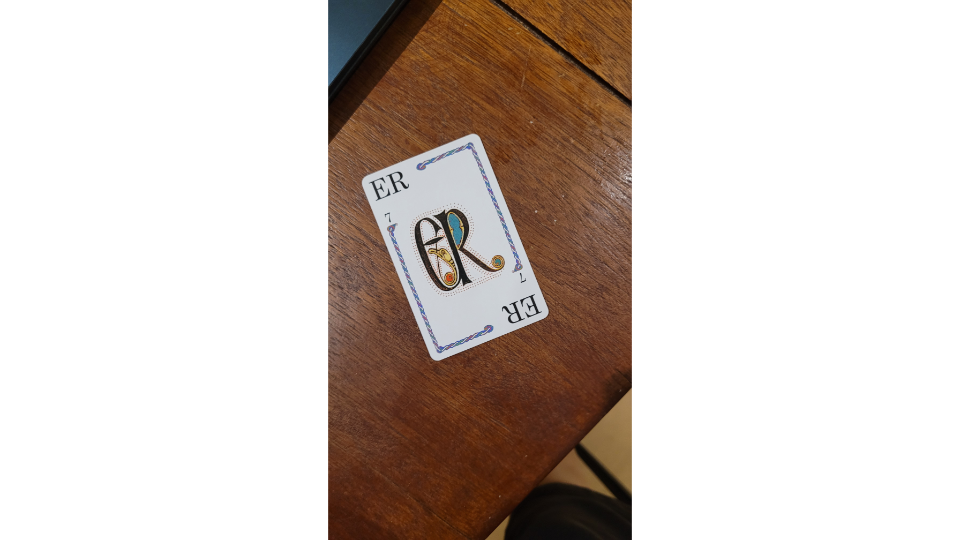ER: (359, 130, 553, 363)
